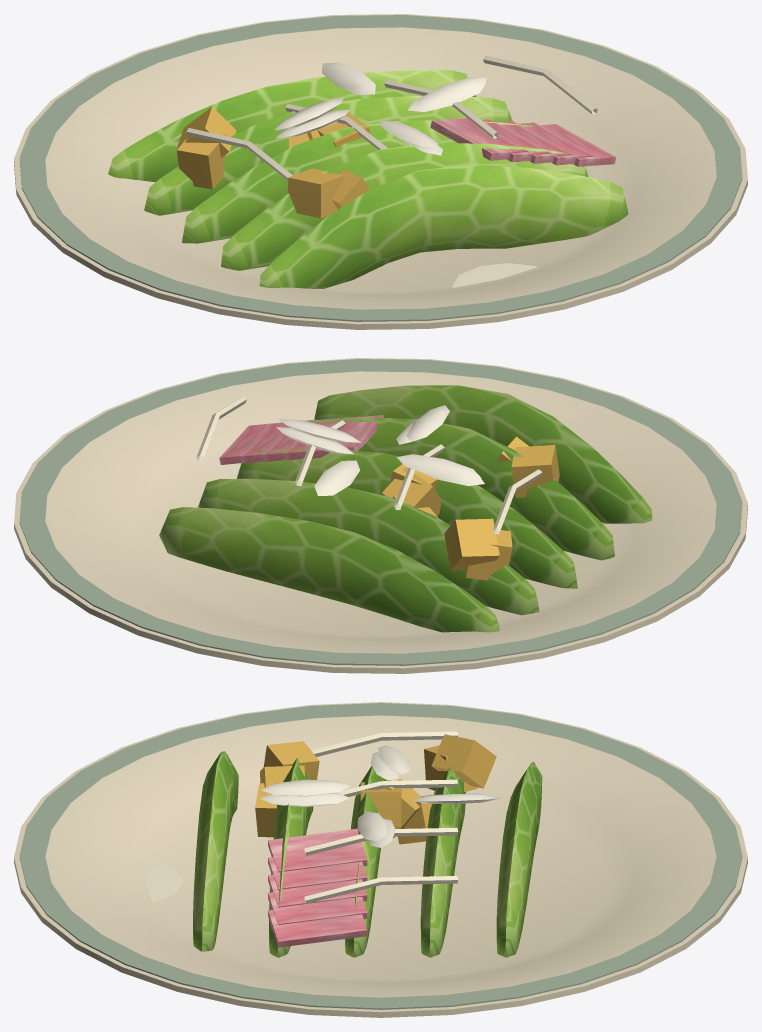
File: meal_caesar_salad.glb
3 renders of one model, top to bottom at view 1: azimuth 30°, elevation 25°; view 2: azimuth 150°, elevation 25°; view 3: azimuth 270°, elevation 25°, orthographic.
Visible parts, largest first — view 1: meal_caesar_salad; view 2: meal_caesar_salad; view 3: meal_caesar_salad.
Part boxes in pixels (x1,y1,x2,y2): meal_caesar_salad: (14,14,747,329); meal_caesar_salad: (14,358,747,673); meal_caesar_salad: (14,702,747,1017).
Size of the model in its own units: 0.29 by 0.0519 by 0.29.
Materials: 7 (2 with a texture image).
